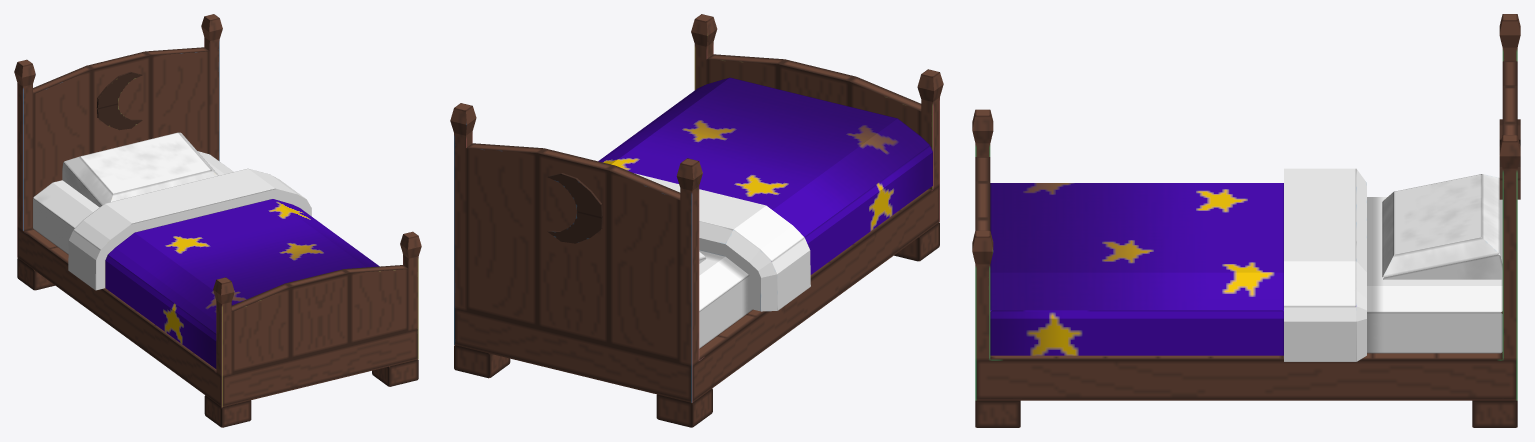
Rendered from bed.fbx.
3 renders of one model, left to right at view 1: azimuth 30°, elevation 25°; view 2: azimuth 150°, elevation 25°; view 3: azimuth 270°, elevation 25°, orthographic. The views are drawn at different scales.
Parts seen in each view (by area): view 1: bed; view 2: bed; view 3: bed.
Part boxes in pixels (<box>): bed: <box>14,14,421,427</box>; bed: <box>450,14,943,427</box>; bed: <box>972,14,1520,427</box>.
Size of the model in its own units: 138 by 131 by 228.
Materials: 1 (1 with a texture image).
